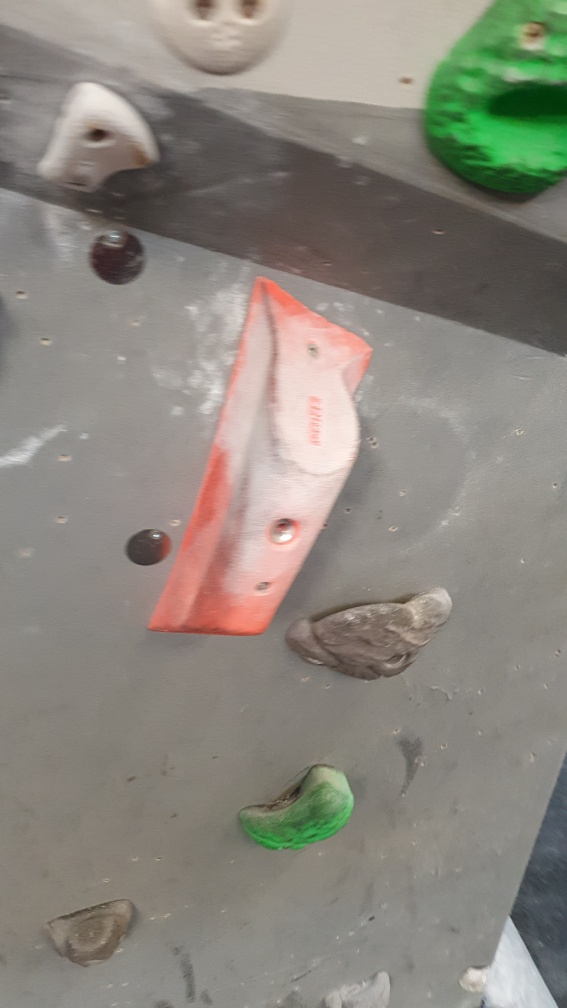Hand Start: (90, 226, 150, 288), (121, 524, 175, 566)
Jug: (281, 580, 458, 674), (228, 756, 359, 854)
Pinch: (146, 268, 376, 643)
